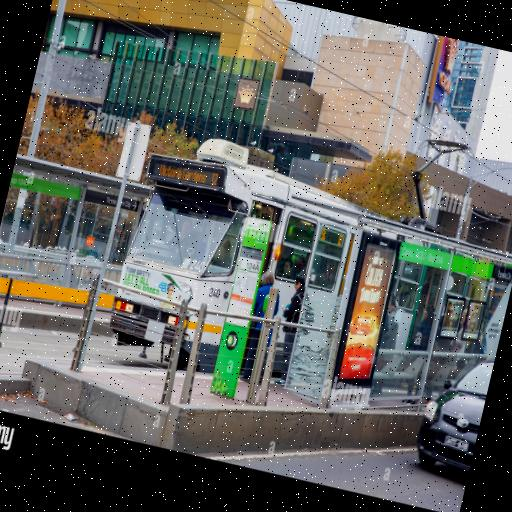handrail: (190, 313, 333, 410), (72, 283, 187, 402)
